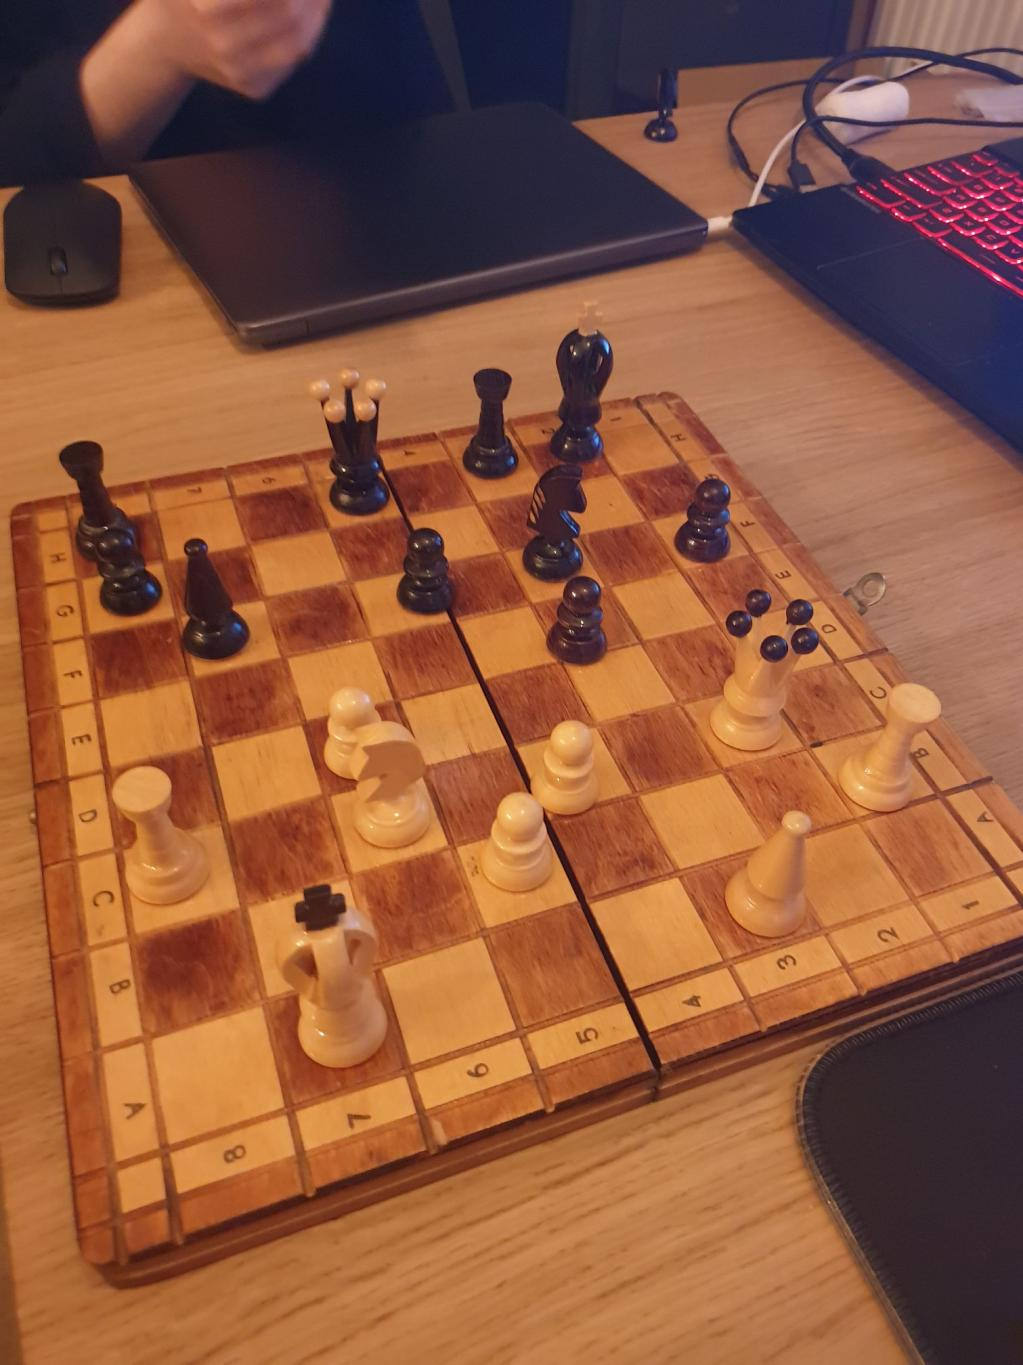bbishop: (176, 532, 255, 665)
bking: (550, 301, 613, 469)
bknight: (522, 464, 589, 583), (647, 64, 682, 146)
bpawn: (671, 472, 737, 573), (545, 570, 611, 669), (93, 521, 161, 618), (393, 525, 453, 620)
bqueen: (309, 370, 395, 516)
brook: (58, 434, 140, 565), (458, 364, 519, 483)
wbishop: (724, 809, 818, 942)
wking: (278, 885, 393, 1075)
wknight: (351, 719, 436, 854)
wpawn: (482, 786, 554, 899), (528, 719, 604, 823), (319, 682, 391, 790)
wqueen: (712, 590, 819, 756)
wrook: (110, 765, 217, 913), (836, 684, 940, 818)
